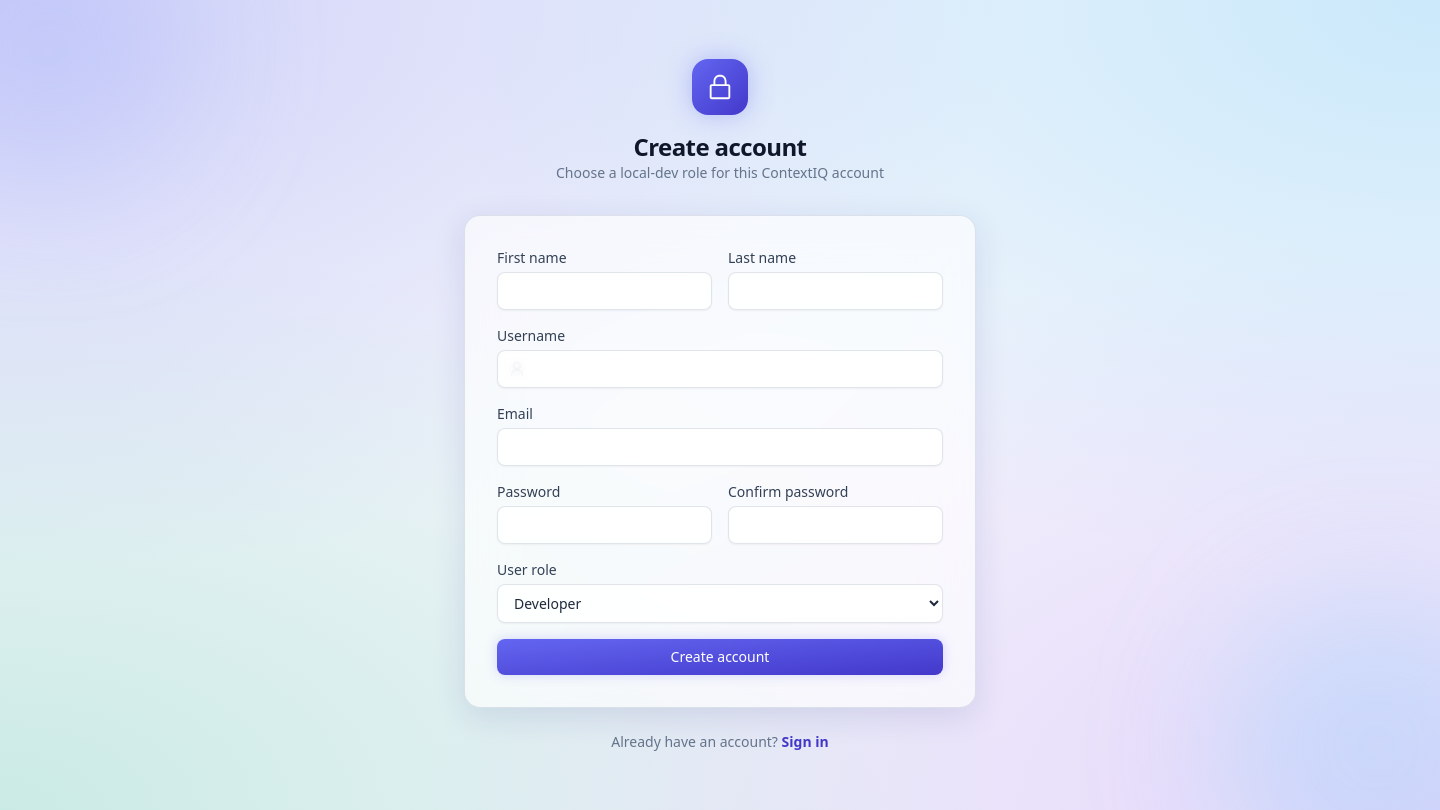
Scenario: RegisterPage › shows password mismatch validation
Type "New" into the field labelled "First name".
click(604, 290); type("New")  # box [497, 272, 712, 310]
Type "User" into the field labelled "Last name".
click(836, 290); type("User")  # box [728, 272, 943, 310]
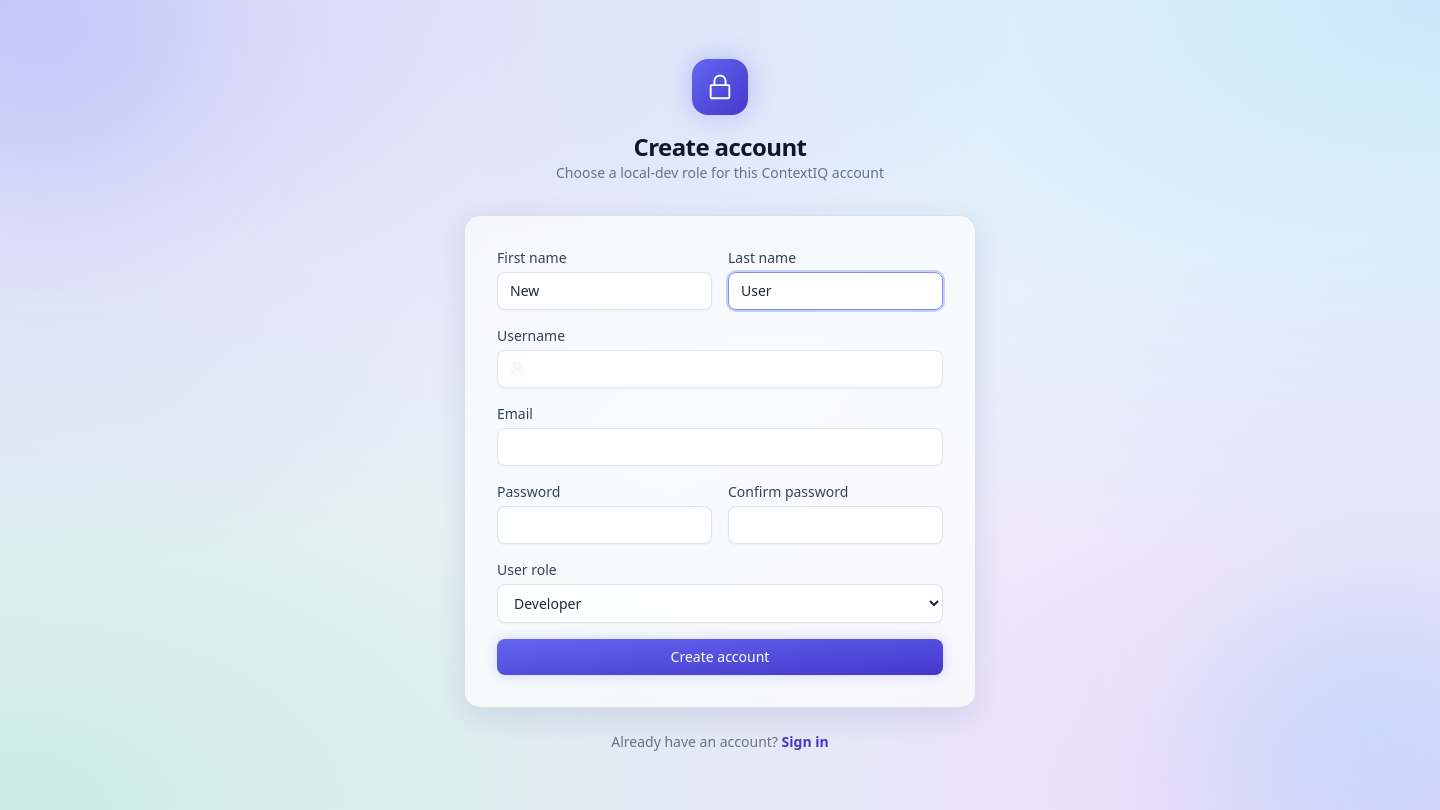
Type "newuser" into the field labelled "Username".
click(720, 368); type("newuser")  # box [497, 350, 943, 388]
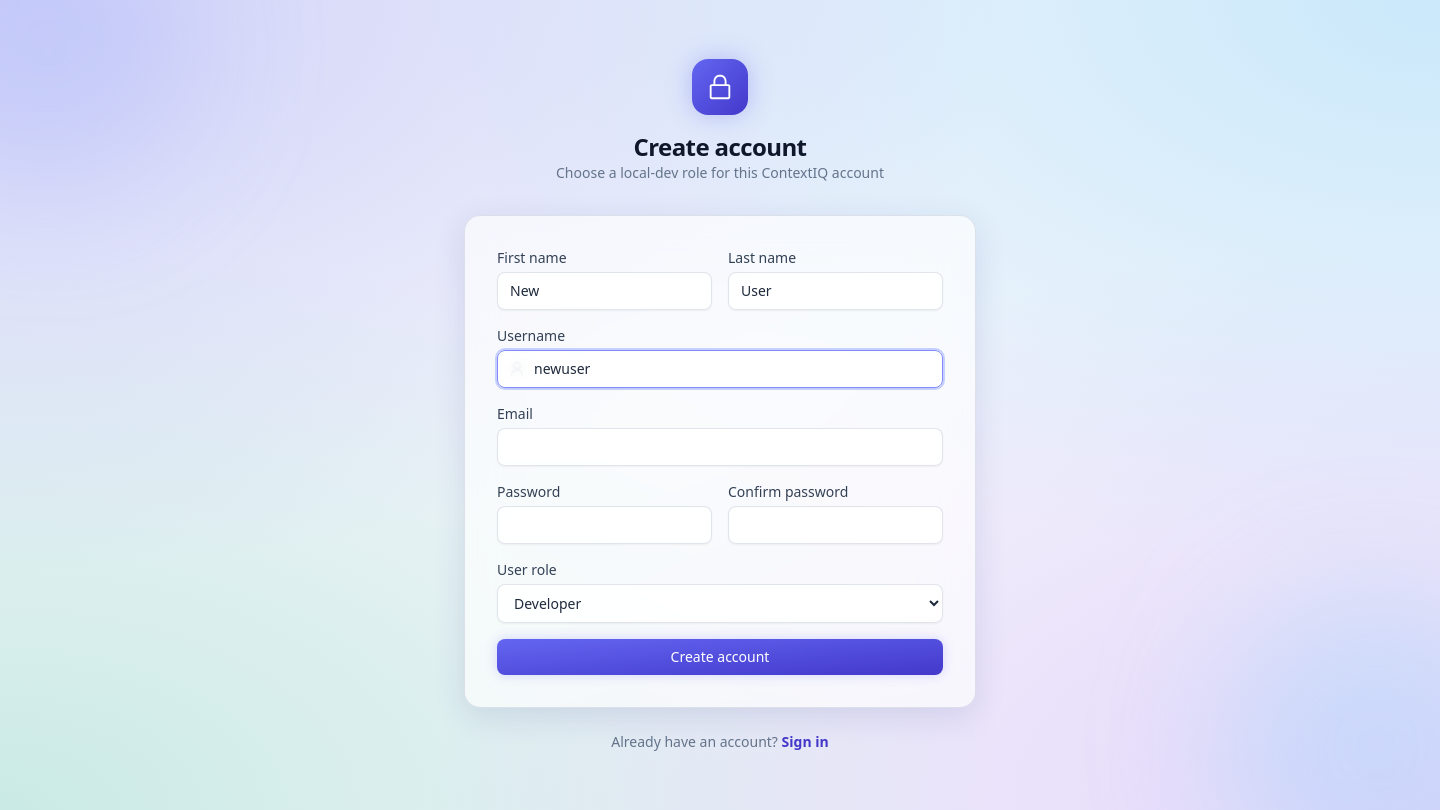
Type "newuser@example.com" into the field labelled "Email".
click(720, 446); type("newuser@example.com")  # box [497, 428, 943, 466]
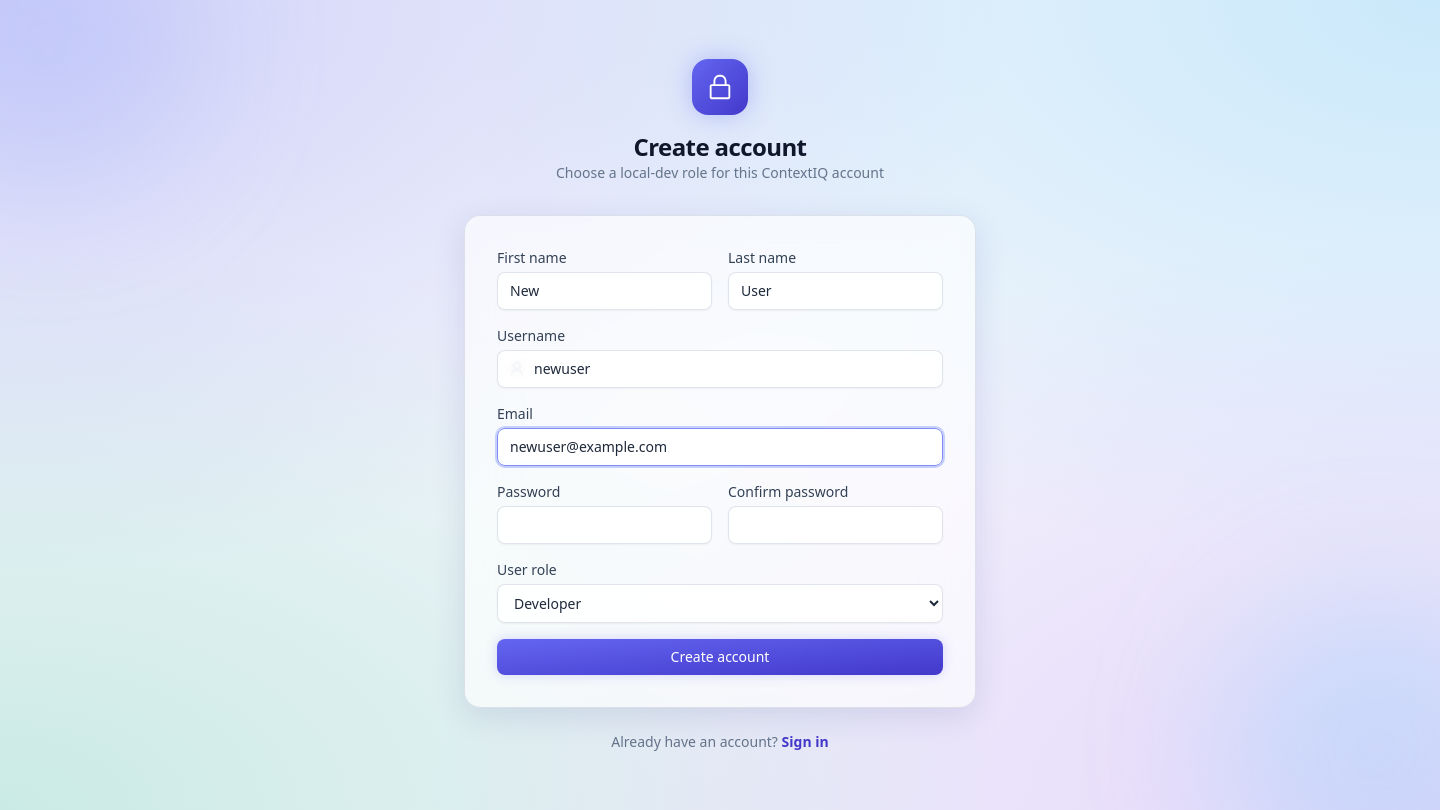
Type "supersecret" into the password field labelled "Password".
click(604, 524); type("supersecret")  # box [497, 506, 712, 544]
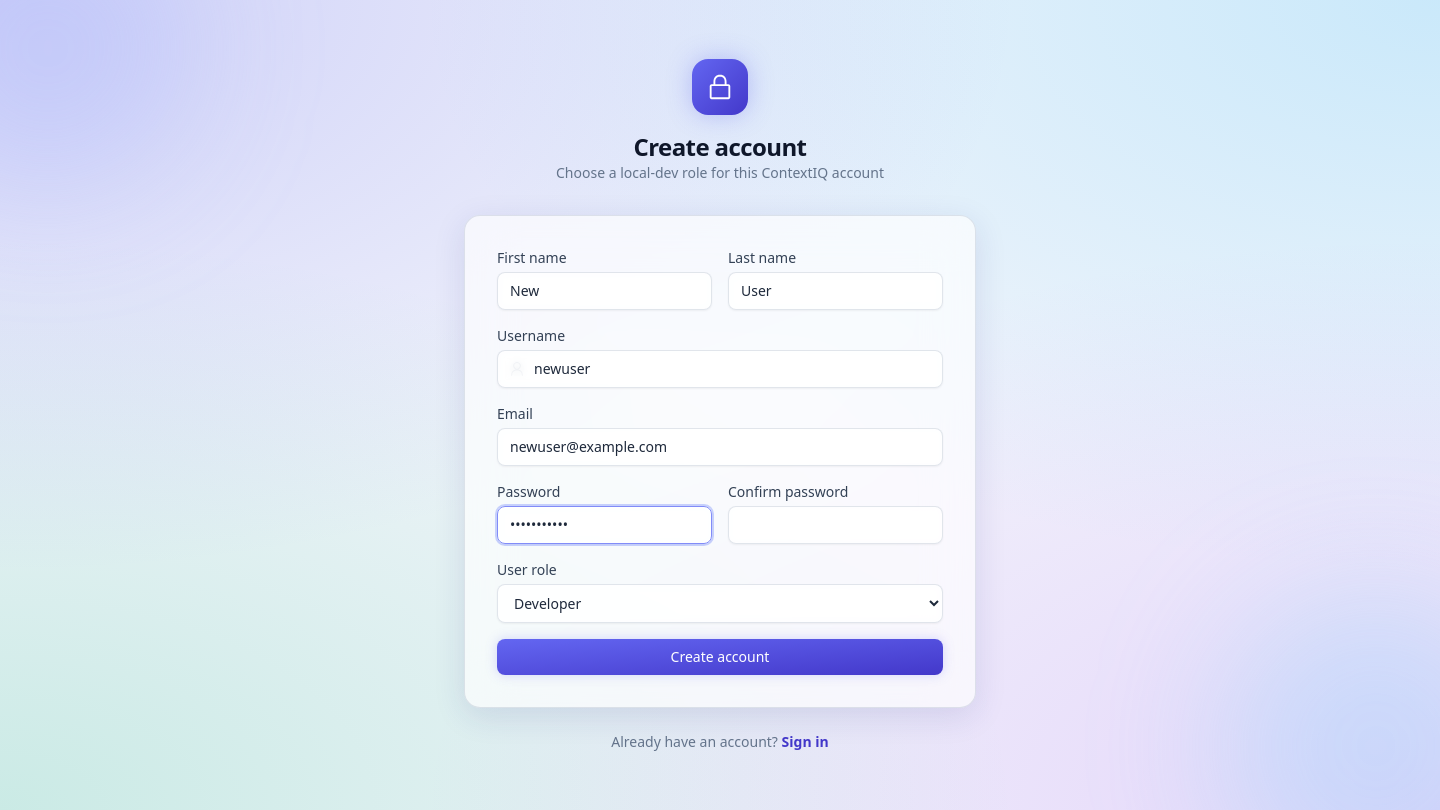
Type "different" into the password field labelled "Confirm password".
click(836, 524); type("different")  # box [728, 506, 943, 544]
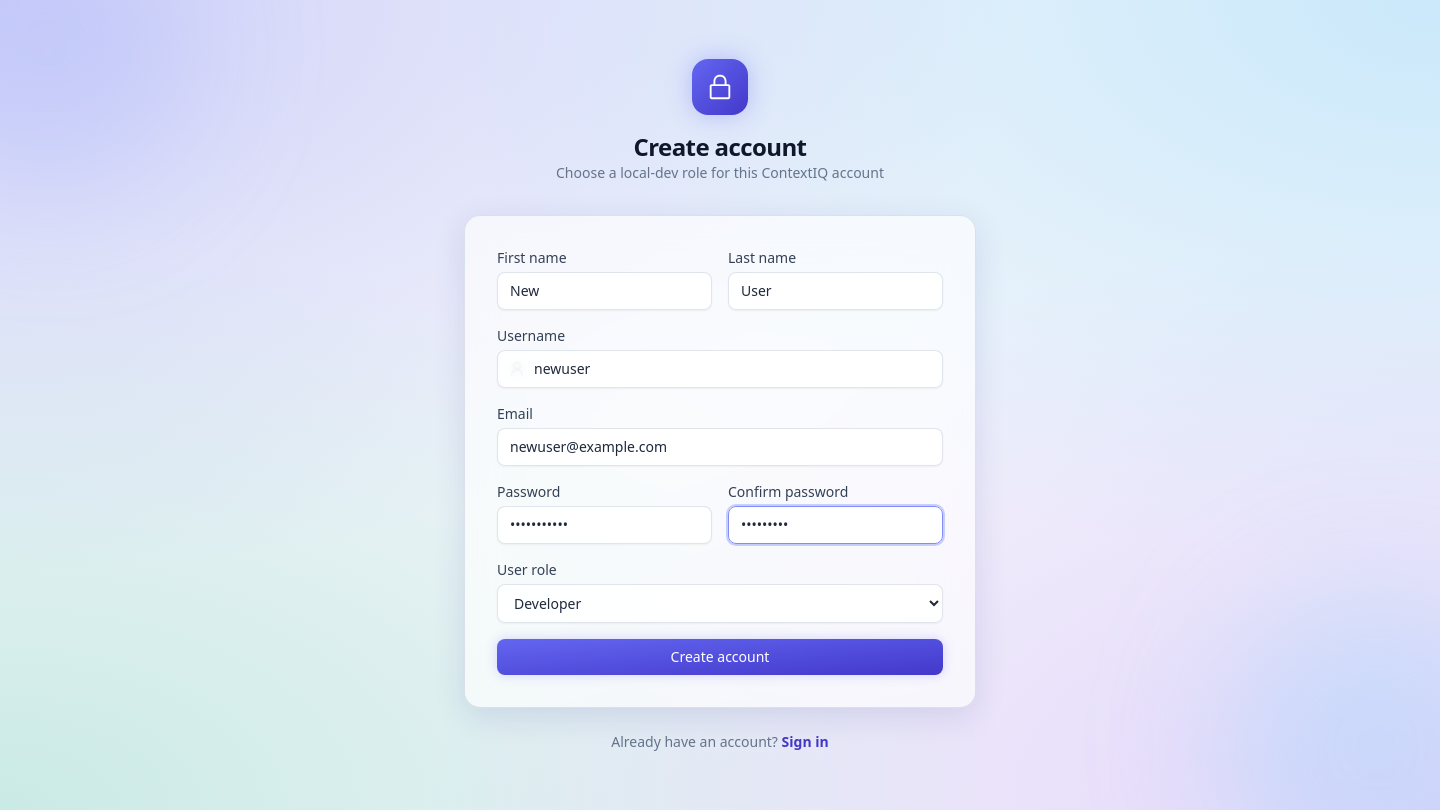
Click the button "Create account".
click(720, 656)  # box [497, 638, 943, 674]
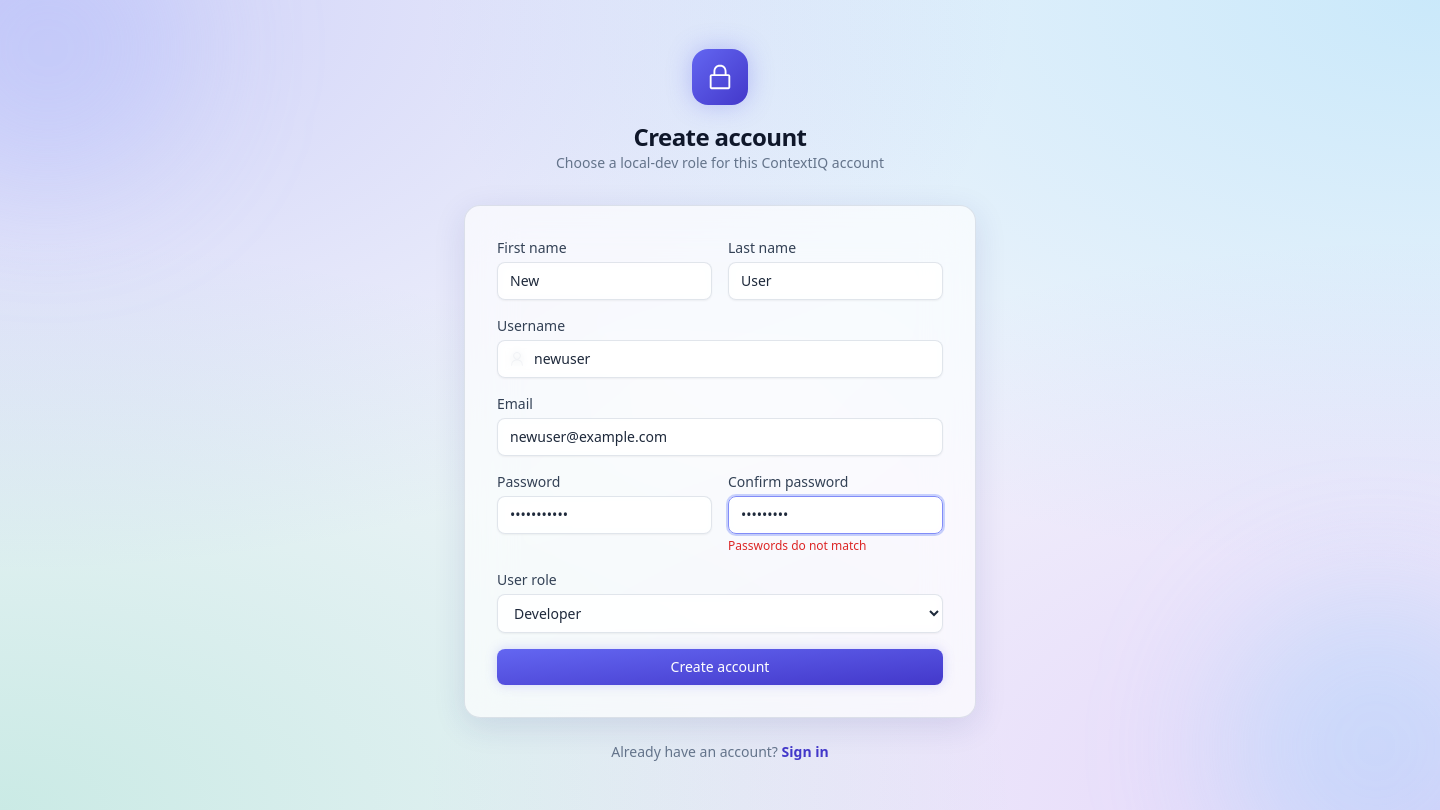
Now the text "Passwords do not match" is shown, box [728, 536, 866, 554]
